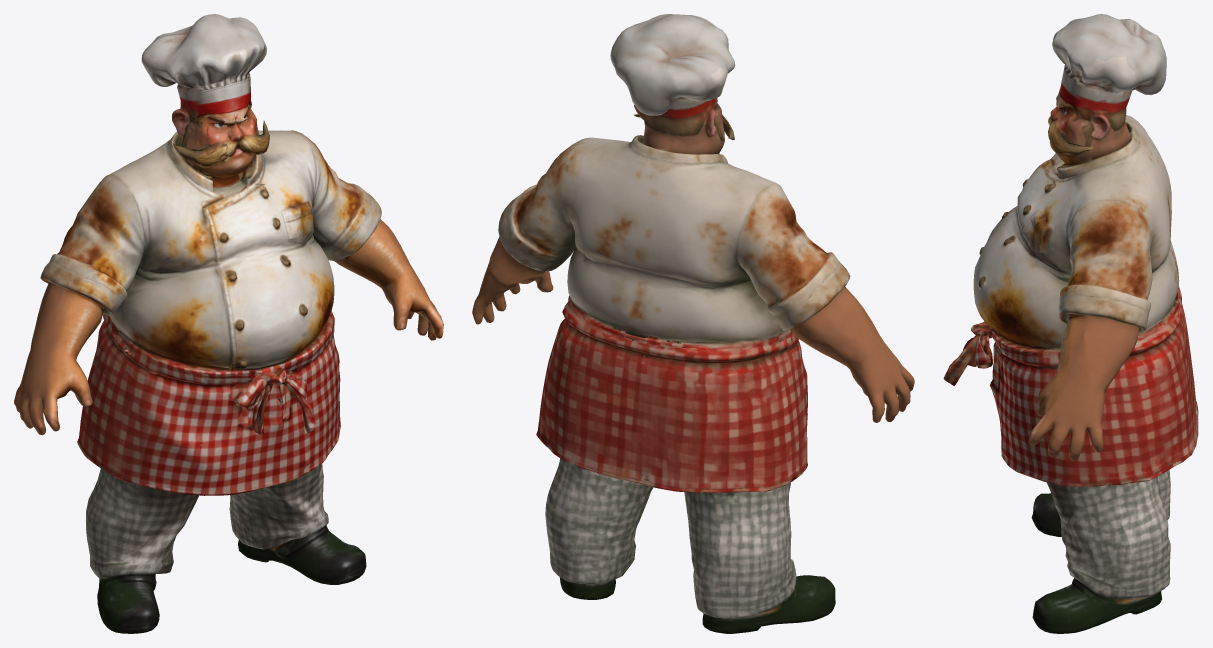
File: diner-boss-cook_body.glb
The picture shows the model from 3 angles, left to right: view 1: azimuth 30°, elevation 25°; view 2: azimuth 150°, elevation 25°; view 3: azimuth 270°, elevation 25°; orthographic projection. The views are drawn at different scales.
Parts seen in each view (by area): view 1: diner-boss-cook; view 2: diner-boss-cook; view 3: diner-boss-cook.
Boxes of the visible parts, bbox=[...] form: diner-boss-cook: bbox=[14, 14, 443, 633]; diner-boss-cook: bbox=[472, 14, 914, 633]; diner-boss-cook: bbox=[943, 14, 1198, 633].
Bounding box in the file's own units: 1.42 × 1.88 × 0.7799.
2 materials, 2 textured.
